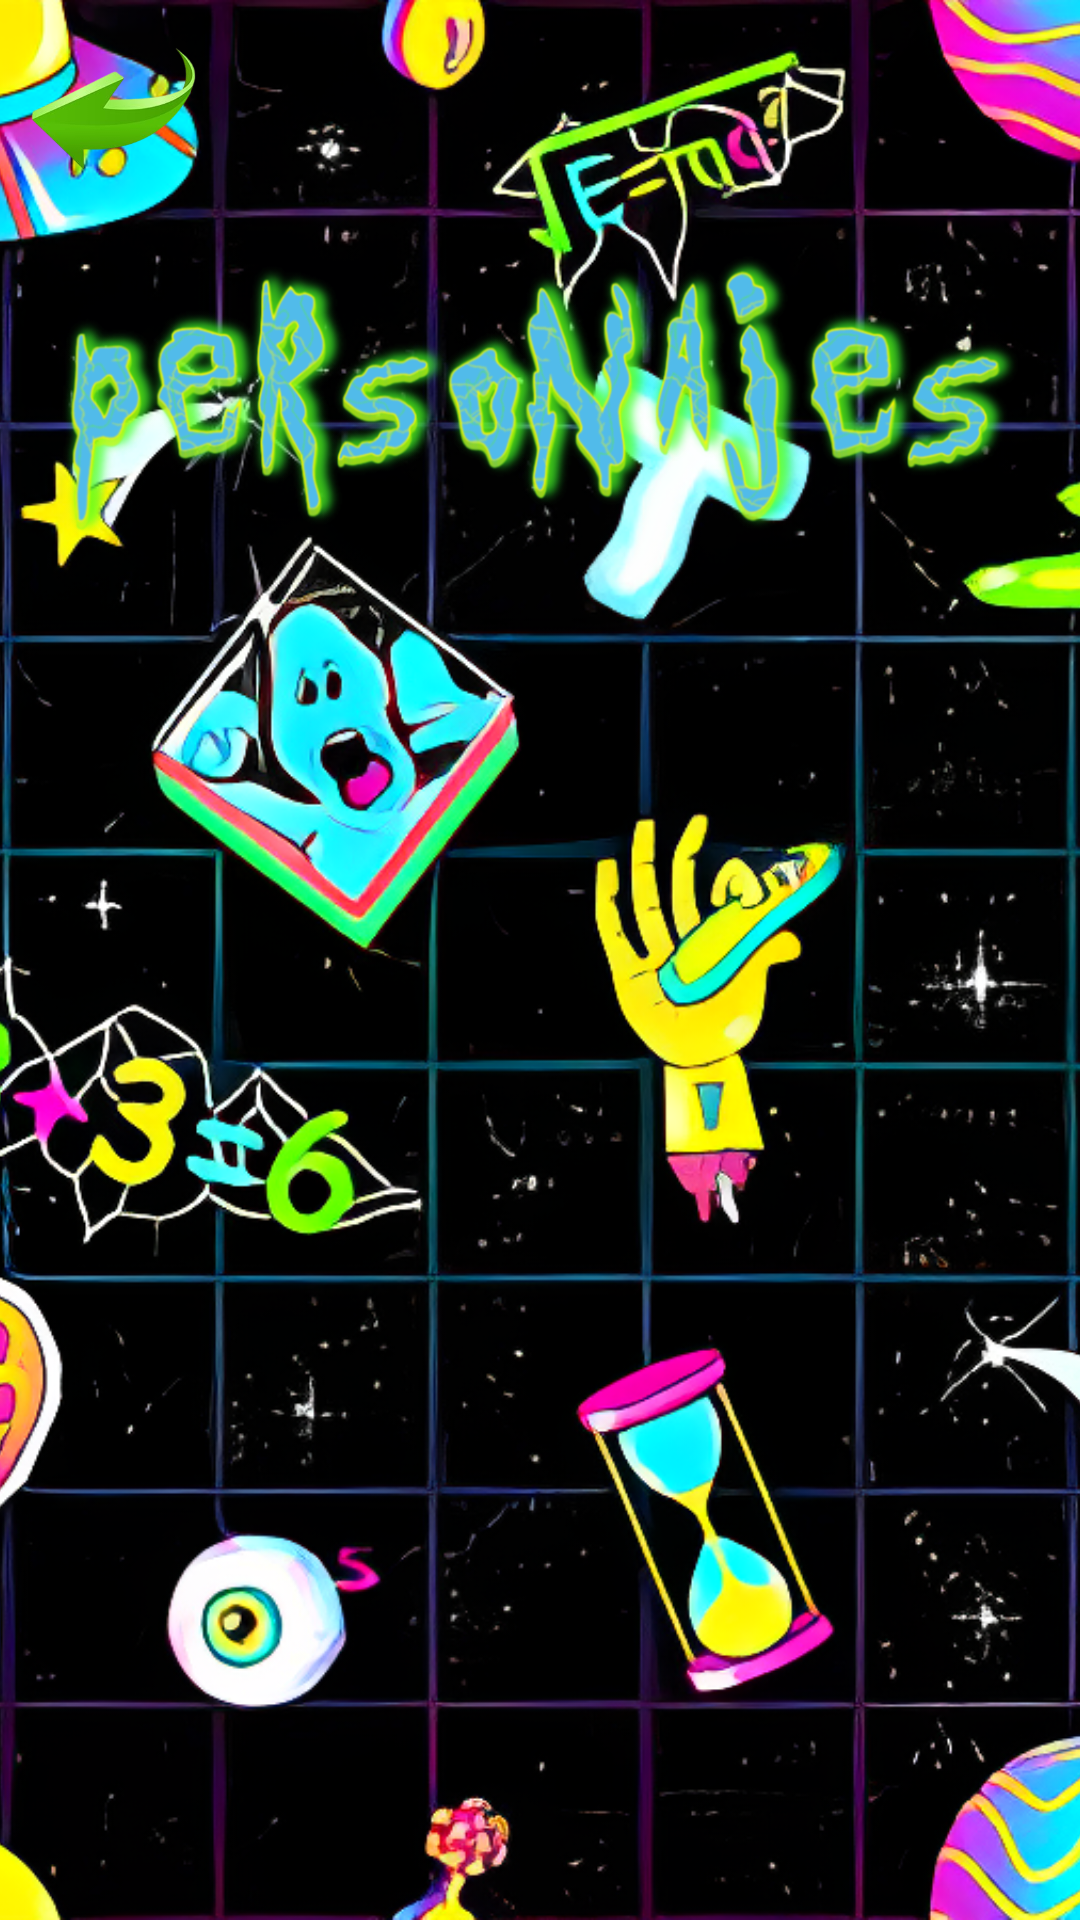

Where to tap for icons on this 1080x1920 app screen, as [x,y]:
flechaatras: [112,112]
